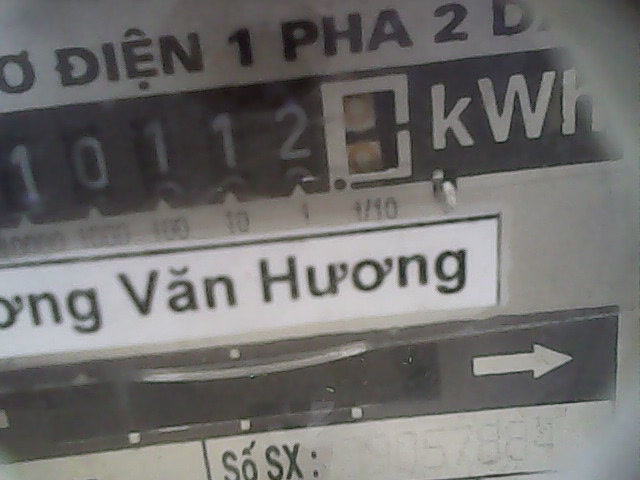phy_plate: (1, 68, 427, 222)
